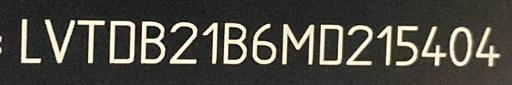letter: (279, 20, 317, 73), (40, 15, 78, 66), (166, 19, 202, 70), (75, 16, 109, 67), (105, 17, 139, 68), (343, 21, 377, 72), (418, 23, 450, 74), (15, 14, 45, 67), (222, 19, 252, 72), (136, 17, 166, 68), (472, 23, 502, 74), (251, 20, 279, 71), (317, 20, 345, 71), (393, 22, 421, 73), (447, 23, 475, 74), (374, 22, 398, 73), (200, 20, 222, 71)
